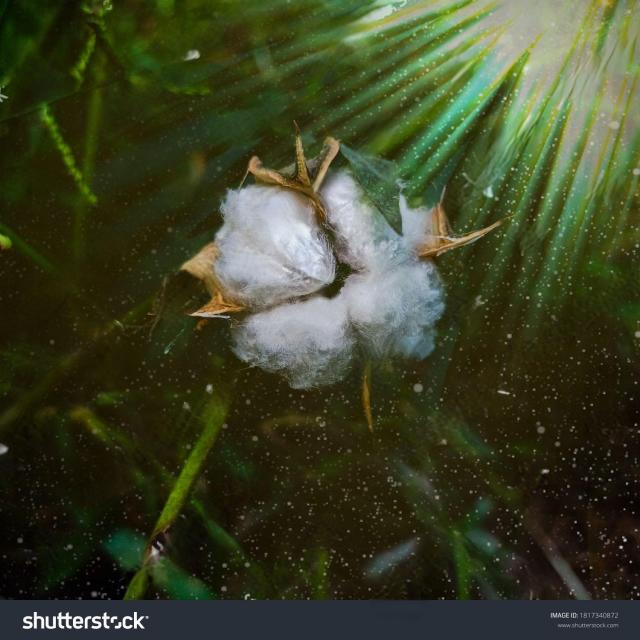Late_blight: (175, 99, 509, 405)
